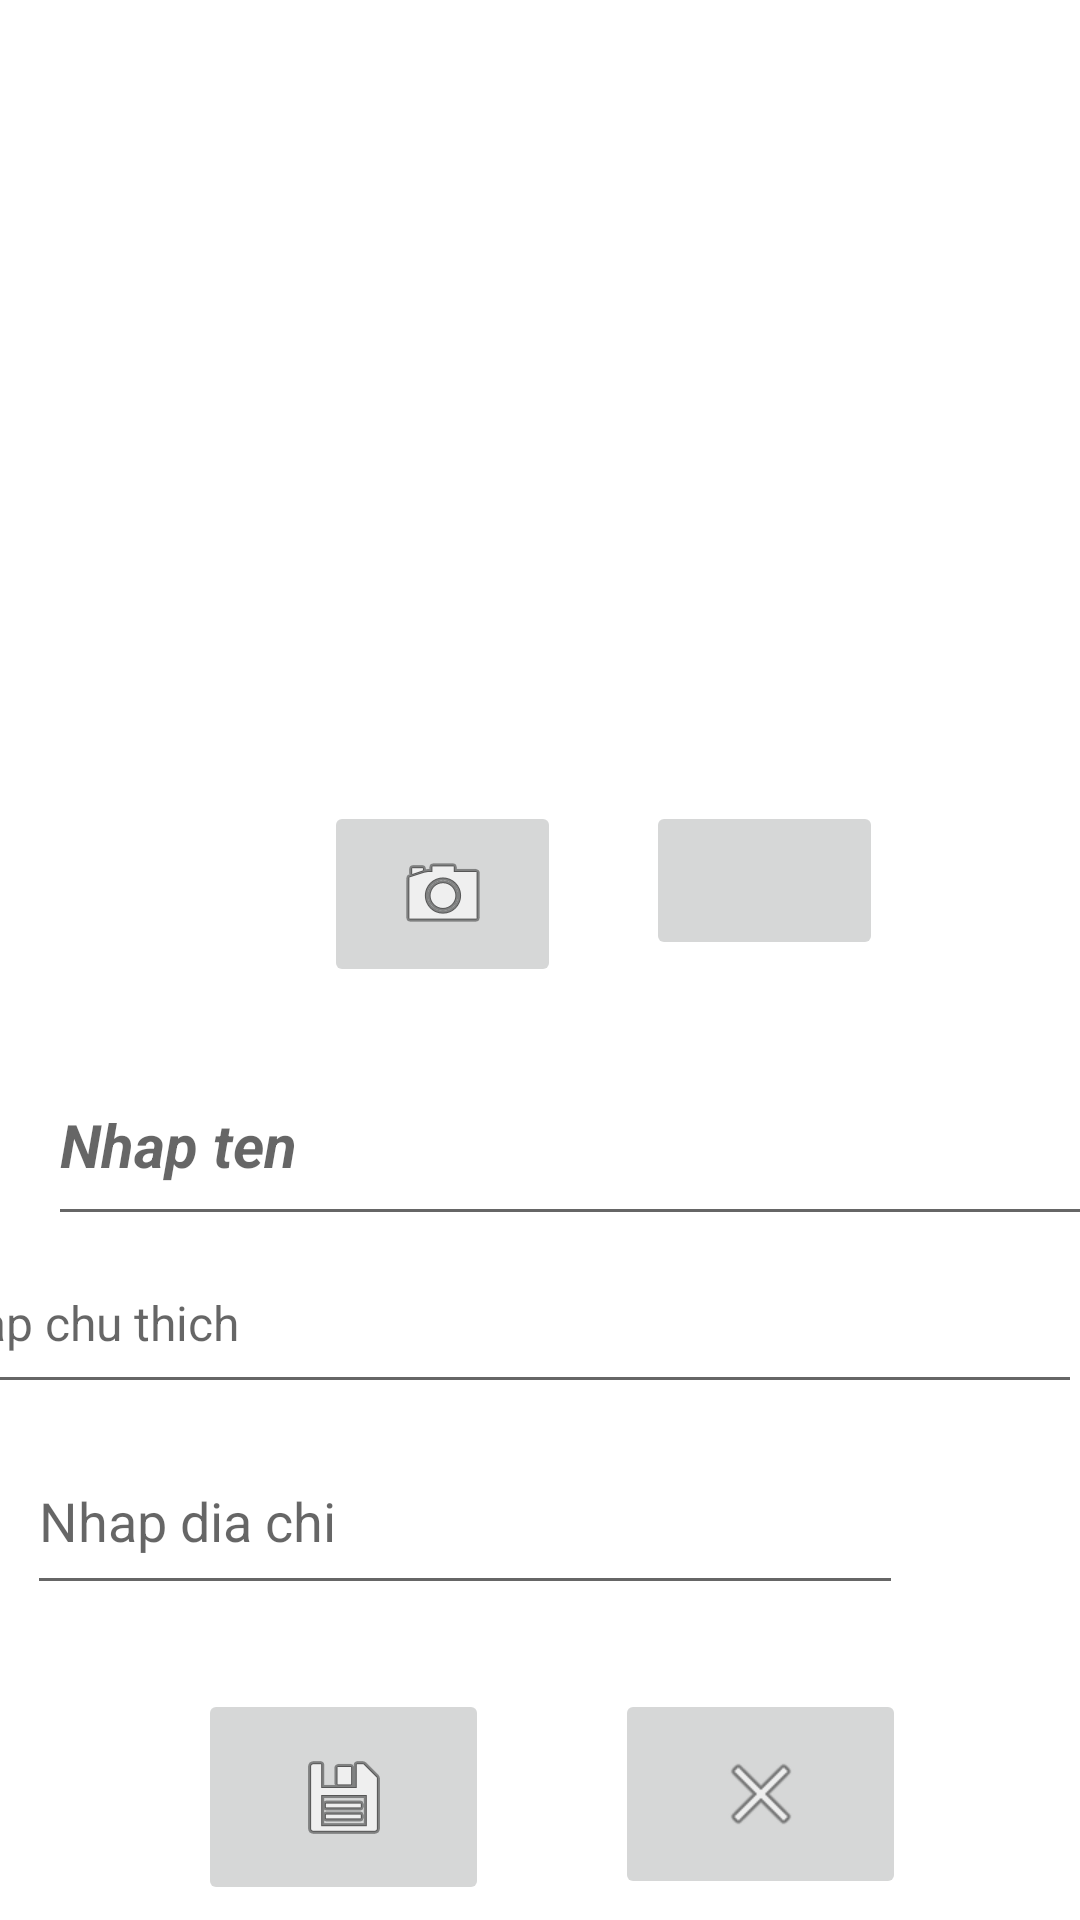

Named icons in this screenshot (1080px x 1920px) and their centers, (x=x, y=y):
camera: (x=442, y=894)
close clear cancel: (x=760, y=1794)
save: (x=343, y=1797)
